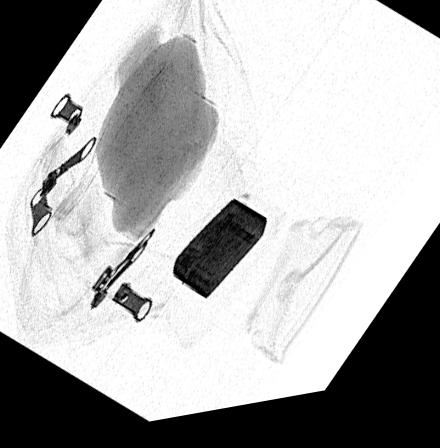Lighter: (171, 205, 267, 308)
